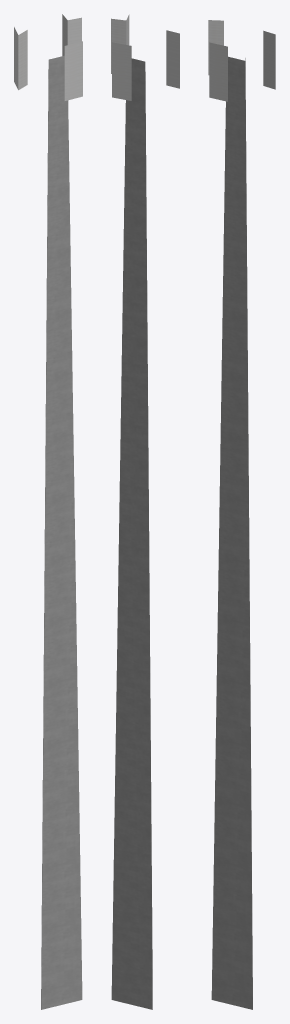
File: tower-concrete-mobPhone-41m-cbj_LOD02.gltf
3 views of the same model, side by side, from view 1: azimuth 30°, elevation 25°; view 2: azimuth 210°, elevation 25°; view 3: azimuth 330°, elevation 25° (orthographic).
Visible parts, largest first — view 1: Cylinder02; view 2: Cylinder02; view 3: Cylinder02.
Boxes of the visible parts, x1,y1,x2,y2 form: Cylinder02: (14,14,82,1009); Cylinder02: (111,14,179,1009); Cylinder02: (208,20,275,1009).
Size of what is drawn, in the model's own units: 2.98 by 42.13 by 2.65.
